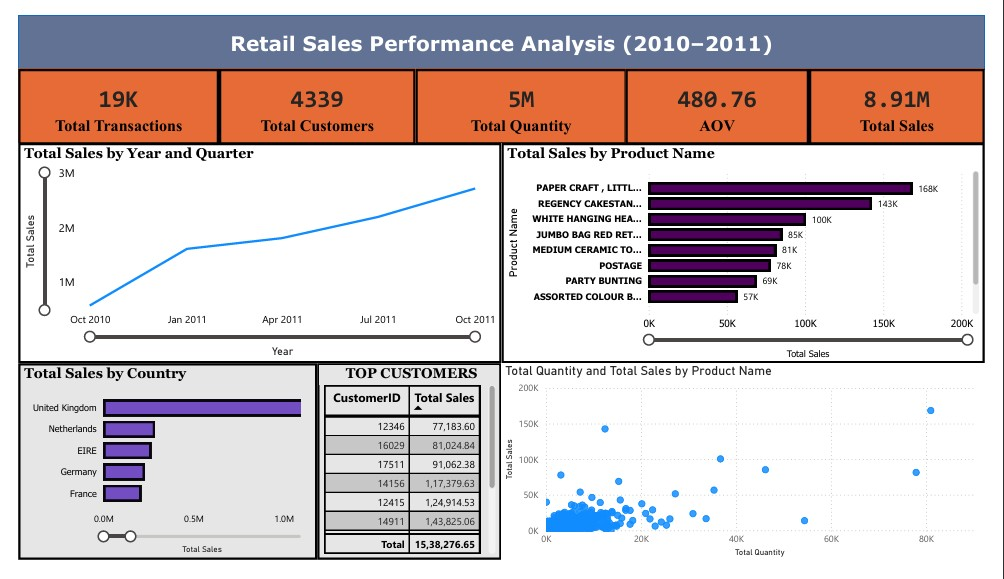

Layout of this report page (visuals, bound fields, positions):
{"tool":"powerbi","page":{"name":"Dashboard","canvas":[1280,720],"ordinal":0},"visuals":[{"type":"shape","box":[0,0,1280.2,71.7],"z":0},{"type":"card","fields":{"Values":["OnlineRetail.Total Sales"]},"box":[1047.1,71.4,232.9,100],"z":1000},{"type":"card","fields":{"Values":["OnlineRetail.Total Customers"]},"box":[265.7,71.4,260,100],"z":2000},{"type":"card","fields":{"Values":["OnlineRetail.Total Orders"]},"box":[0,71.4,265.7,100],"z":3000},{"type":"card","fields":{"Values":["OnlineRetail.Total Quantity"]},"box":[525.7,71.4,280,100],"z":4000},{"type":"card","fields":{"Values":["OnlineRetail.AOV"]},"box":[804.3,71.4,242.9,100],"z":5000},{"type":"lineChart","fields":{"Category":["OnlineRetail.InvoiceDate.Variation.Date Hierarchy.Year","OnlineRetail.InvoiceDate.Variation.Date Hierarchy.Quarter"],"Y":["OnlineRetail.Total Sales"]},"box":[0,168.6,640,291.4],"z":6000},{"type":"clusteredBarChart","fields":{"Category":["OnlineRetail.Product Name"],"Y":["OnlineRetail.Total Sales"]},"box":[640,168.6,640,291.4],"z":7000},{"type":"clusteredBarChart","fields":{"Category":["OnlineRetail.Country"],"Y":["OnlineRetail.Total Sales"]},"box":[0,460,395.7,260],"z":8000},{"type":"tableEx","title":"TOP CUSTOMERS","fields":{"Values":["OnlineRetail.CustomerID Hierarchy.CustomerID","OnlineRetail.Total Sales"]},"box":[395.7,460,244.3,260],"z":9000},{"type":"scatterChart","fields":{"X":["OnlineRetail.Total Quantity"],"Y":["OnlineRetail.Total Sales"],"Category":["OnlineRetail.Product Name"]},"box":[640,460,640,260],"z":9001}]}

Visuals, with their boxes in screenshot pixels (x1, y1, x2, y2), scaled from the page's 1280x720 canvas onto the 1004x579 screenshot:
shape: (0, 0, 1003, 58)
card - OnlineRetail.Total Sales: (821, 57, 1003, 138)
card - OnlineRetail.Total Customers: (208, 57, 412, 138)
card - OnlineRetail.Total Orders: (0, 57, 208, 138)
card - OnlineRetail.Total Quantity: (412, 57, 632, 138)
card - OnlineRetail.AOV: (631, 57, 821, 138)
lineChart - OnlineRetail.InvoiceDate.Variation.Date Hierarchy.Year x OnlineRetail.InvoiceDate.Variation.Date Hierarchy.Quarter: (0, 136, 502, 370)
clusteredBarChart - OnlineRetail.Product Name x OnlineRetail.Total Sales: (502, 136, 1003, 370)
clusteredBarChart - OnlineRetail.Country x OnlineRetail.Total Sales: (0, 370, 310, 578)
"TOP CUSTOMERS" tableEx: (310, 370, 502, 578)
scatterChart - OnlineRetail.Total Quantity x OnlineRetail.Total Sales: (502, 370, 1003, 578)
